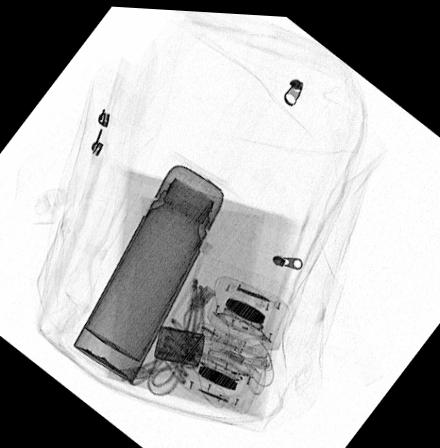Lighter: (152, 323, 204, 365)
